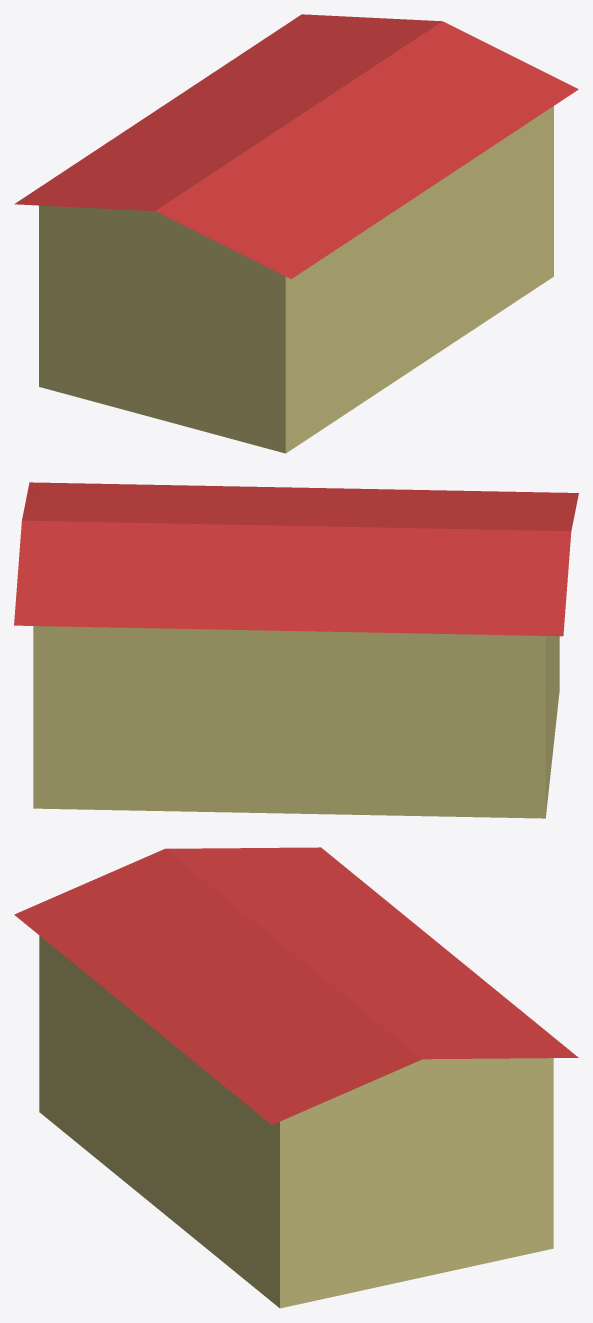
3 views of the same model, one above another, from view 1: azimuth 30°, elevation 25°; view 2: azimuth 150°, elevation 25°; view 3: azimuth 270°, elevation 25° (orthographic). The views are drawn at different scales.
Bounding box in the file's own units: 26.06 × 22.41 × 9.93.
